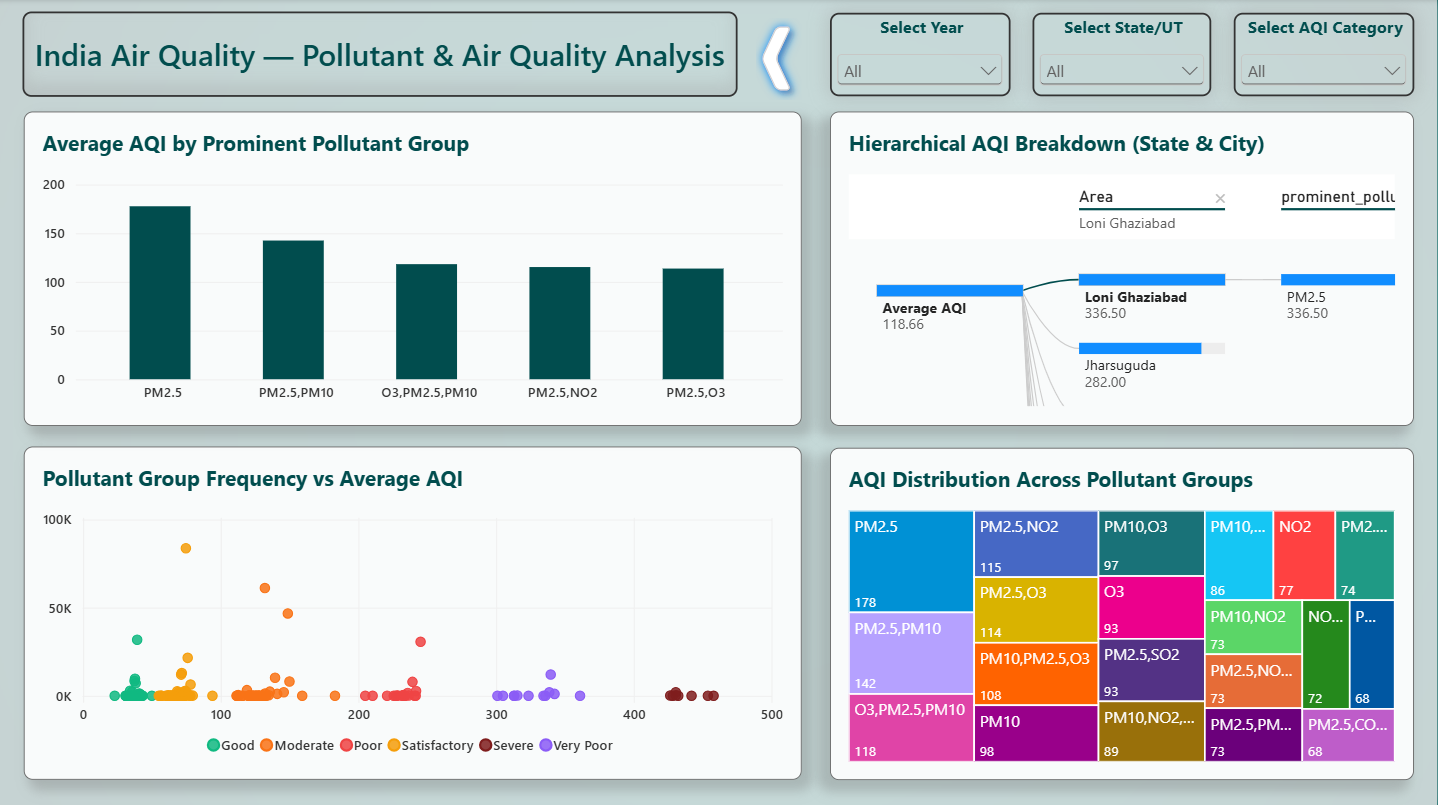

The page's visual inventory and layout, read from the dashboard file:
{"tool":"powerbi","page":{"name":"Pollutant & Air Quality Analysis","canvas":[1280,720],"ordinal":3},"visuals":[{"type":"slicer","title":"Select Year","fields":{"Values":["AQI_Data.Year"]},"box":[739.5,12.8,160.5,74.4],"z":0},{"type":"slicer","title":"Select State/UT","fields":{"Values":["AQI_Data.state"]},"box":[919.8,12.8,159.3,74.4],"z":1000},{"type":"slicer","title":"Select AQI Category","fields":{"Values":["AQI_Data.air_quality_status"]},"box":[1098.8,12.8,160.5,74.4],"z":2000},{"type":"textbox","box":[20.5,10.9,637,76],"z":3000},{"type":"decompositionTreeVisual","title":"Hierarchical AQI Breakdown (State & City)","fields":{"Analyze":["AQI_Data.Average AQI"],"ExplainBy":["AQI_Data.area","AQI_Data.prominent_pollutants","AQI_Data.state"]},"box":[739.5,100,520.1,279.9],"z":4000},{"type":"scatterChart","title":"Pollutant Group Frequency vs Average AQI","fields":{"Category":["AQI_Data.prominent_pollutants"],"X":["Avg(AQI_Data.aqi_value)"],"Y":["CountNonNull(AQI_Data.aqi_value)"],"Series":["AQI_Data.air_quality_status"]},"box":[20.9,398.8,693,296.5],"z":5000},{"type":"treemap","title":"AQI Distribution Across Pollutant Groups","fields":{"Group":["AQI_Data.prominent_pollutants"],"Values":["AQI_Data.Average AQI"]},"box":[739.6,399.3,520.1,296.4],"z":6000},{"type":"clusteredColumnChart","title":"Average AQI by Prominent Pollutant Group","fields":{"Category":["AQI_Data.prominent_pollutants"],"Y":["AQI_Data.Average AQI"]},"box":[20.9,100,693,280.2],"z":7000},{"type":"actionButton","box":[669.6,15.7,44.6,74.8],"z":8000}]}

Visuals, with their boxes in screenshot pixels (x1, y1, x2, y2), scaled from the page's 1280x720 canvas onto the 1438x805 screenshot:
"Select Year" slicer: <box>831,14,1011,97</box>
"Select State/UT" slicer: <box>1033,14,1212,97</box>
"Select AQI Category" slicer: <box>1234,14,1415,97</box>
textbox: <box>23,12,739,97</box>
"Hierarchical AQI Breakdown (State & City)" decompositionTreeVisual: <box>831,112,1415,425</box>
"Pollutant Group Frequency vs Average AQI" scatterChart: <box>23,446,802,777</box>
"AQI Distribution Across Pollutant Groups" treemap: <box>831,446,1415,778</box>
"Average AQI by Prominent Pollutant Group" clusteredColumnChart: <box>23,112,802,425</box>
actionButton: <box>752,18,802,101</box>
